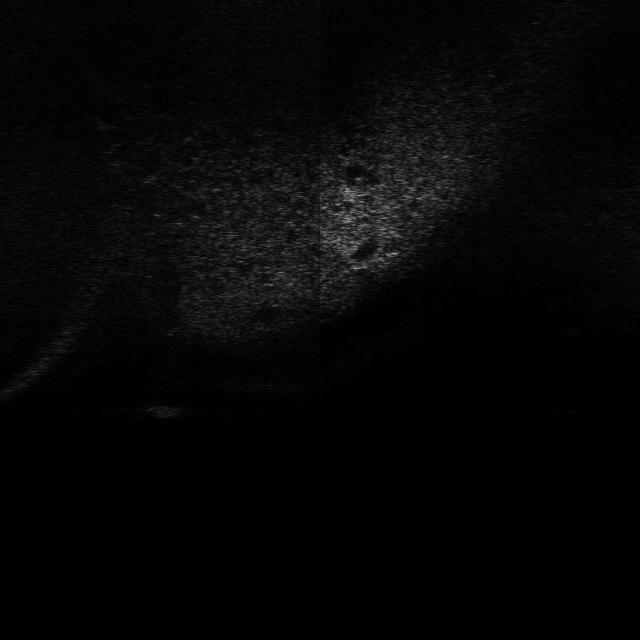cube: (140, 397, 194, 423)
